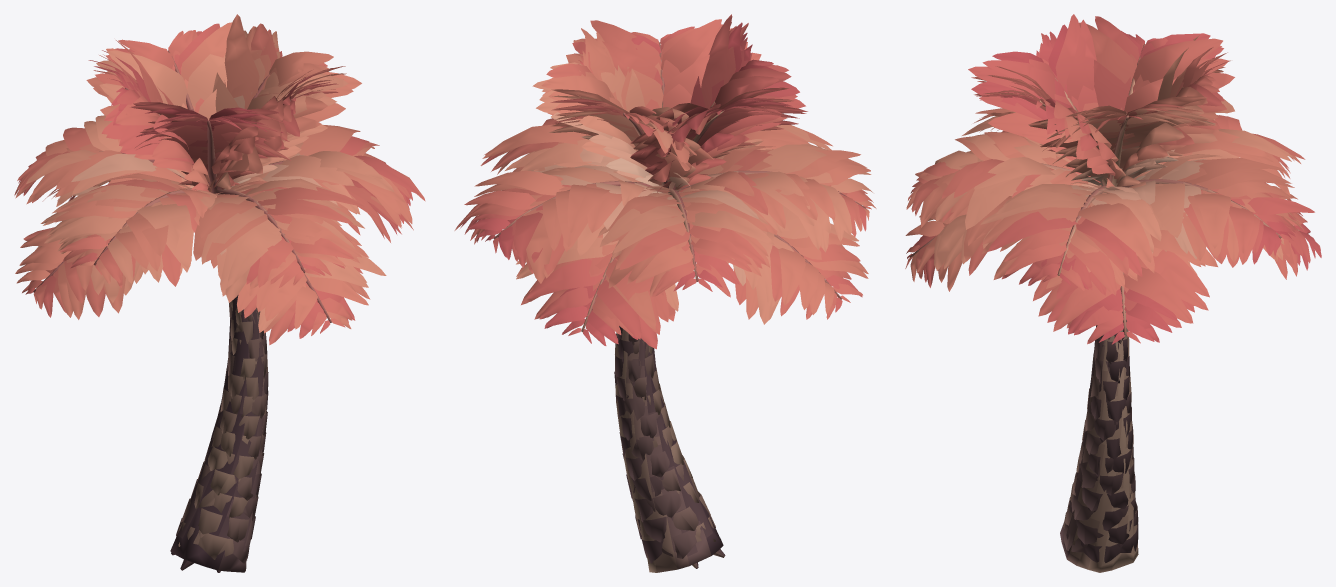
Rendered from palm.glb.
3 renders of one model, left to right at view 1: azimuth 30°, elevation 25°; view 2: azimuth 150°, elevation 25°; view 3: azimuth 270°, elevation 25°, orthographic.
Parts seen in each view (by area): view 1: palm; view 2: palm; view 3: palm.
Boxes of the visible parts, x1=… form: palm: x1=14, y1=14, x2=425, y2=572; palm: x1=454, y1=14, x2=876, y2=572; palm: x1=905, y1=14, x2=1321, y2=572.
Size of the model in its own units: 5.25 by 6.93 by 5.22.
